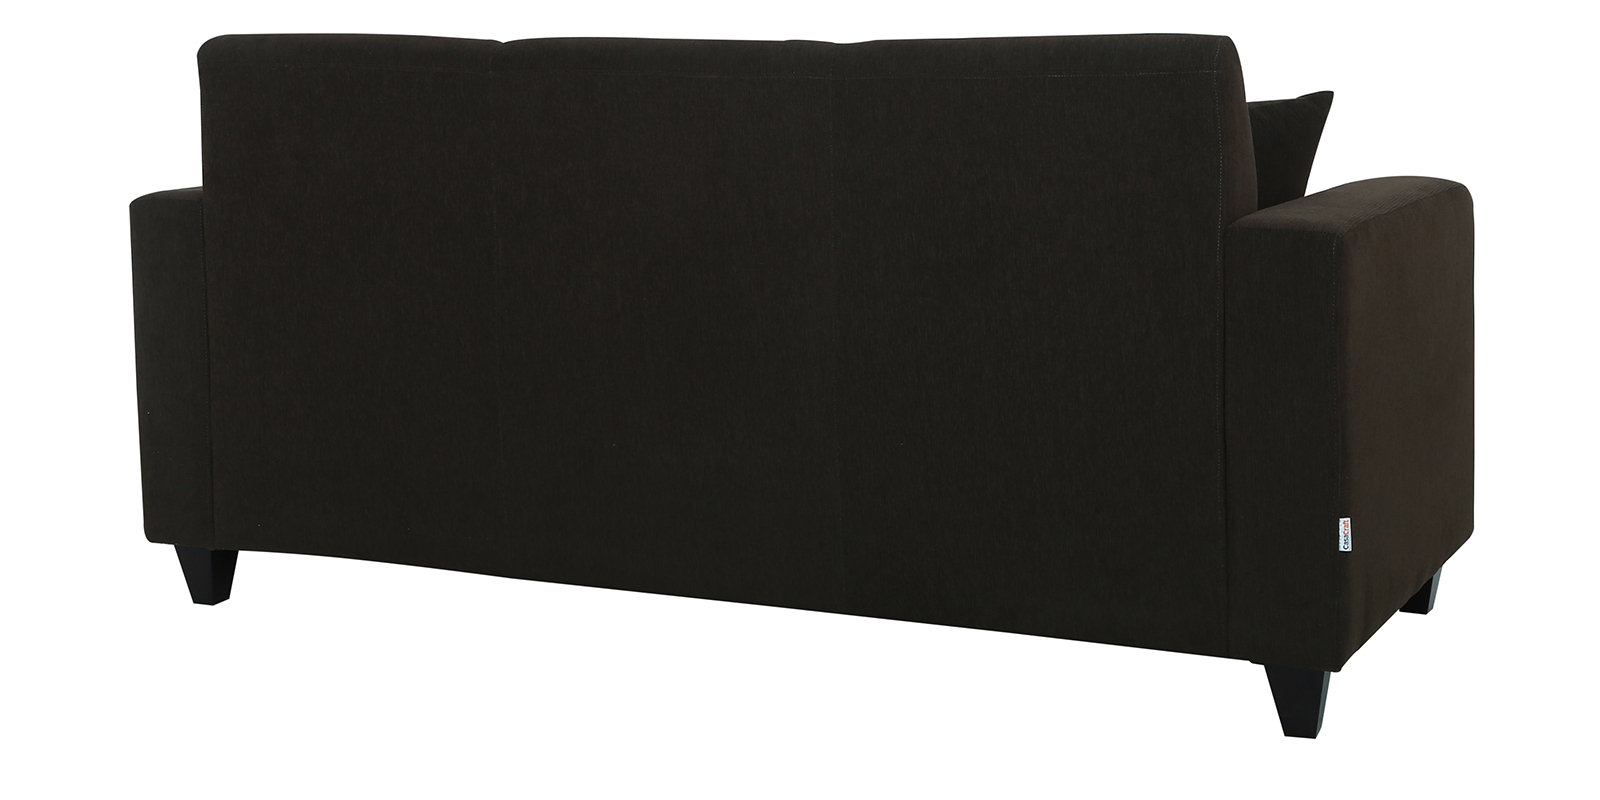Alba Three Seater Sofa in Chestnut Brown Colour by CasaCraft: (119, 28, 1478, 750)
